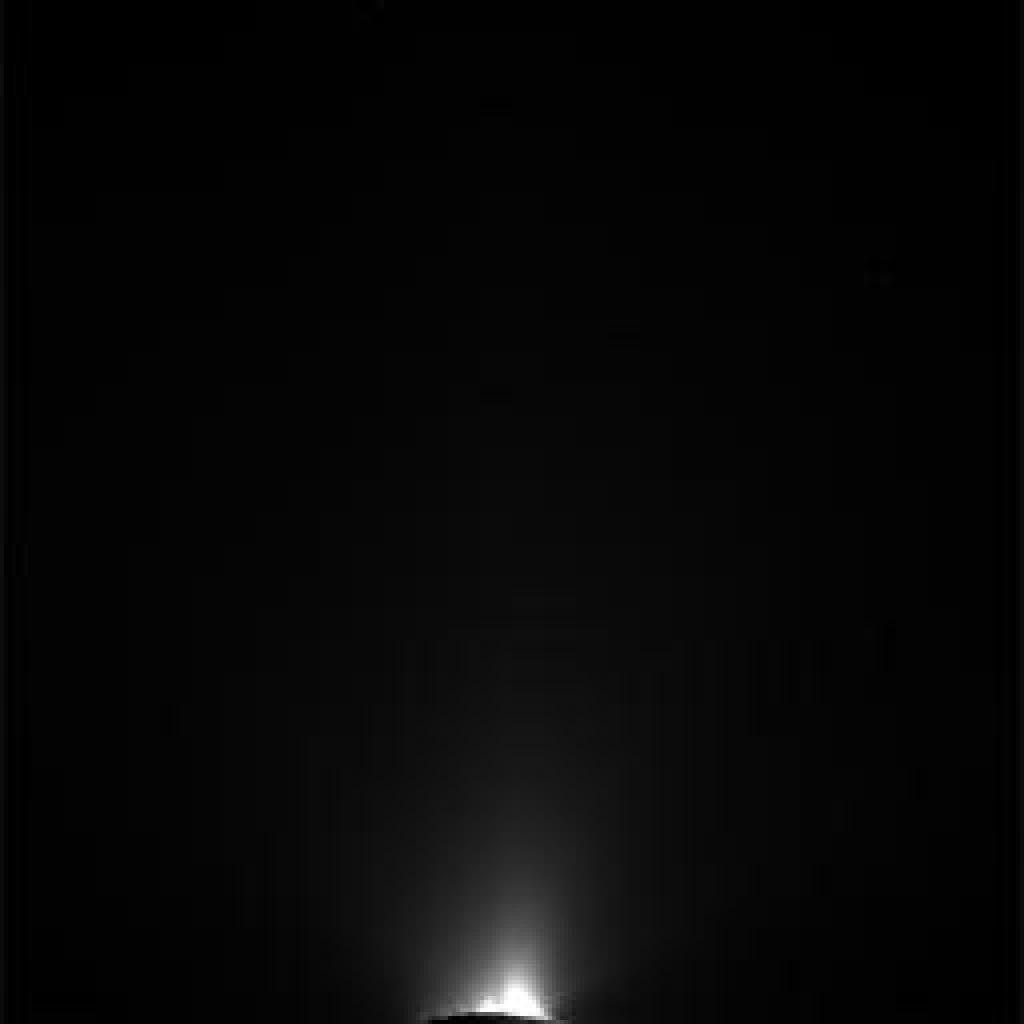plumes: (430, 876, 551, 1016)
